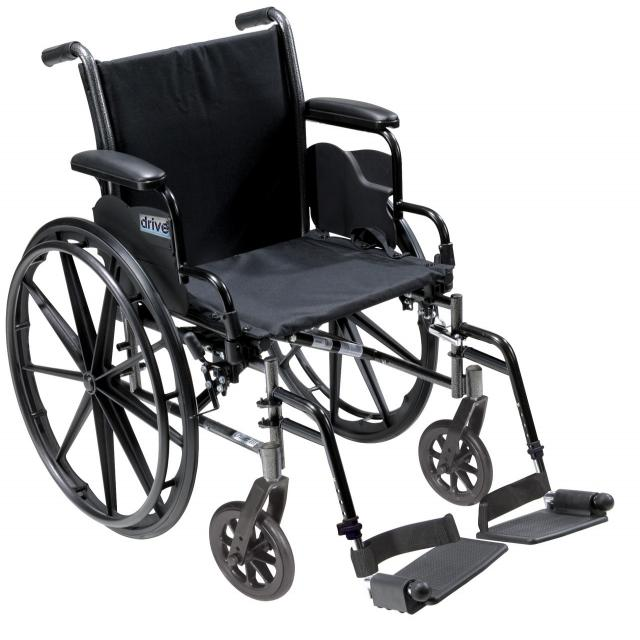wheelchair: (0, 4, 622, 626)
